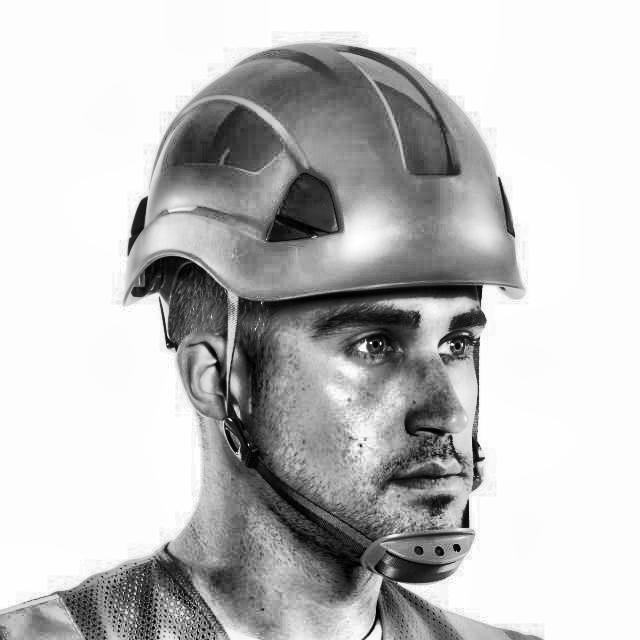Helmet: (110, 36, 528, 596)
